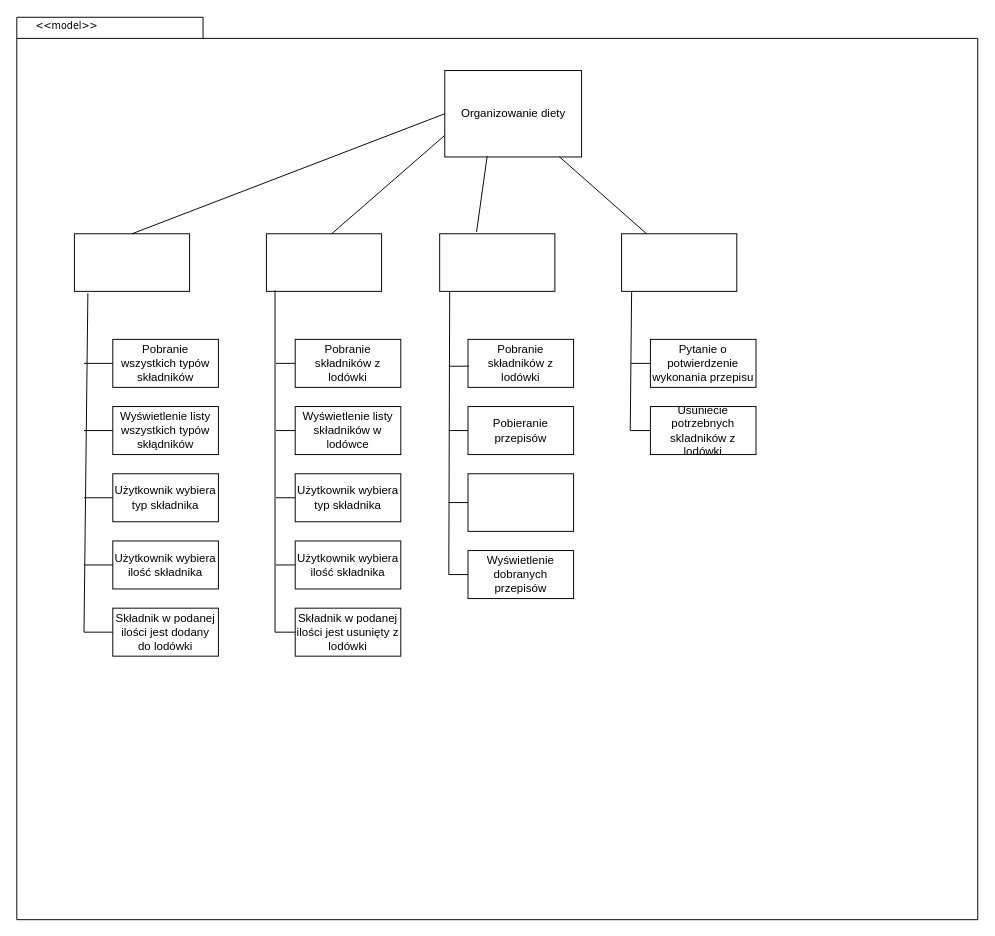
The diagram is 995 pixels wide and 936 high, and some of its shapes have lost their labels. The shapes that lost their labels are listed below. From the top down, each one's box as (x1, y1, x2, y2) in pixels, then its label:
(73, 233, 190, 291): Dodawanie składników
(265, 233, 382, 291): Usuwanie składników
(439, 233, 555, 291): Generowanie propozycji dań
(621, 233, 737, 291): Wykonanie przepisu
(467, 473, 574, 531): Wyszukiwanie przepisów pasujących do stanu lodówki
